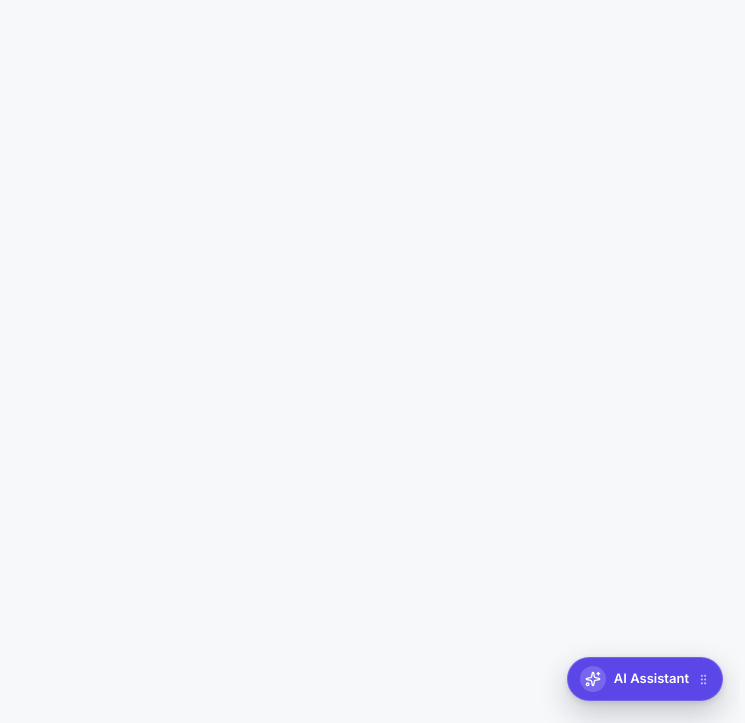
Scenario: Phase 4 — Global Floating Admin AI Assistant › shows FAB on admin pages, opens drawer with page context, and expands/closes cleanly
This screenshot has width=745, height=723.
Later steps or results of the test are not shown.
Click the button with aria-label "Open AI Assistant".
click(645, 679)  # box [567,657,723,701]
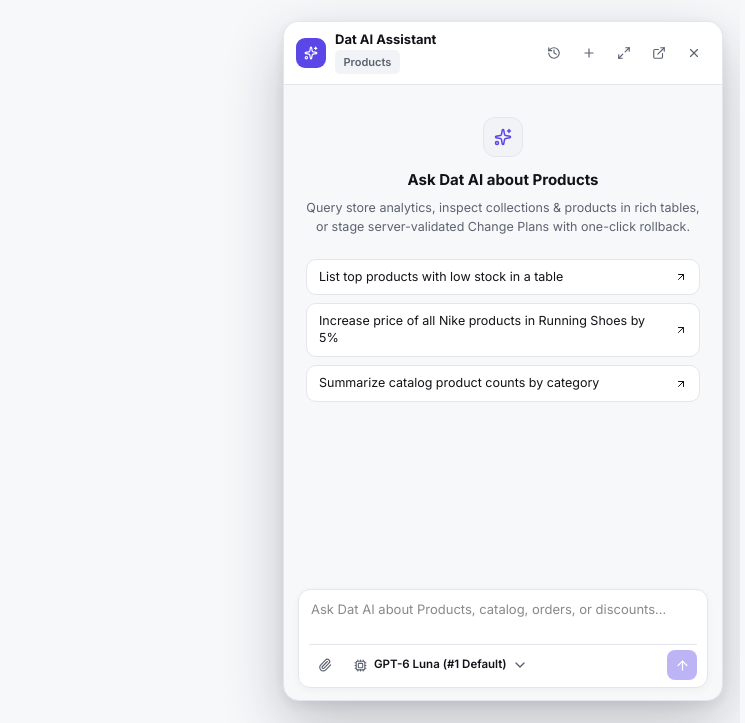
Check: the element named "Floating AI Assistant" is shown, box [283,21,723,701]
Check: the heading "Ask Dat AI about Products" is shown, box [408,169,598,191]
Click the button named "Expand panel".
click(624, 53)  # box [608,37,640,69]
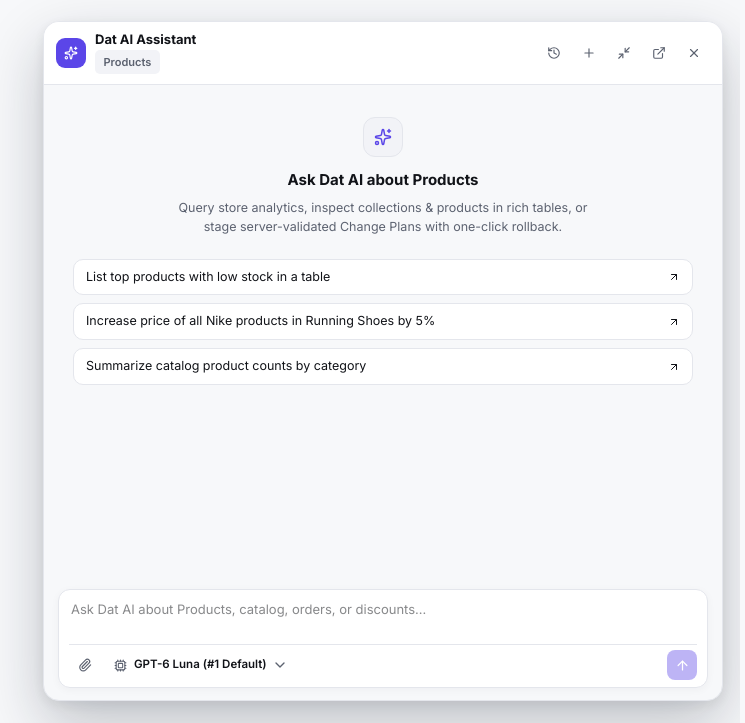
Check: the element named "Floating AI Assistant" is shown
